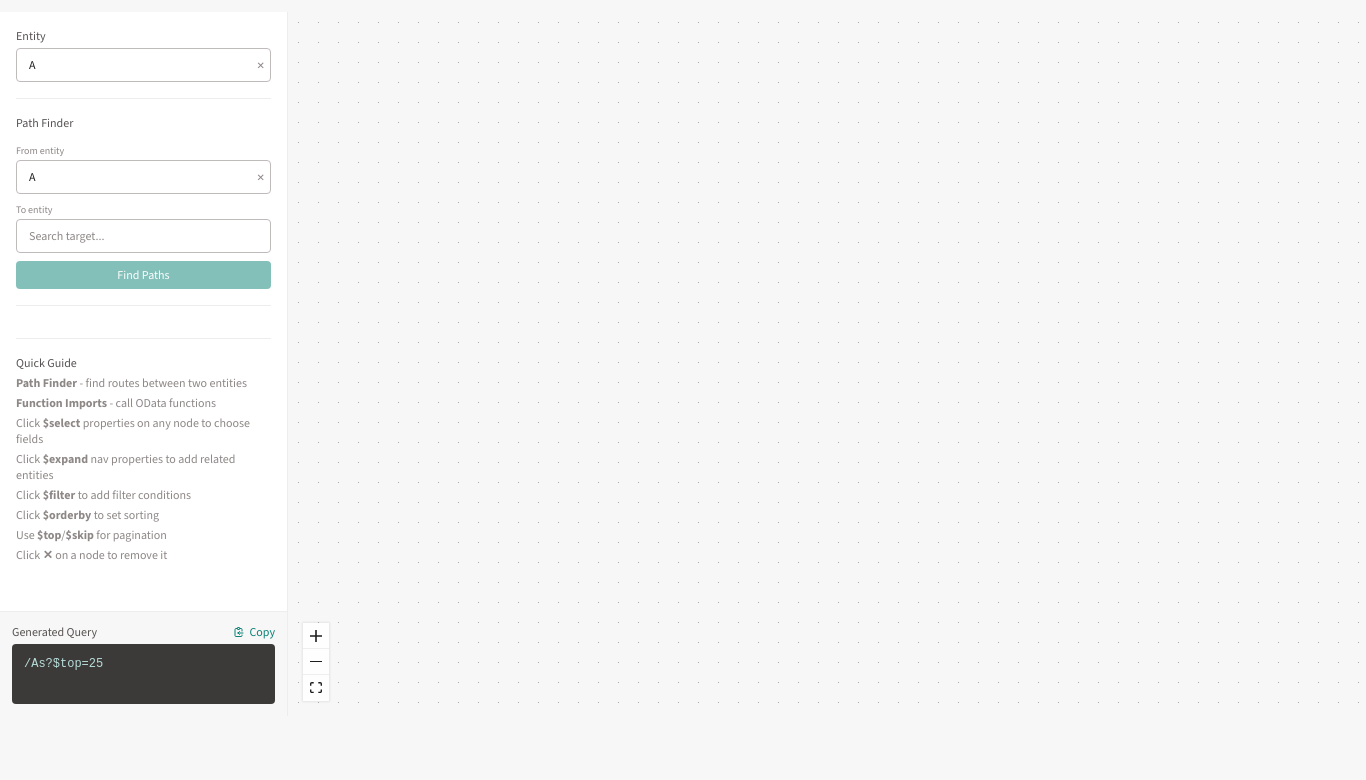
Scenario: QueryBuilder empty state › blames the refused function segment, not the exposed source set
This screenshot has width=1366, height=780.
# Entity selector, source and target: the target is the third combobox.
Focus the dropdown with placeholder "Search target..." at (144, 236), box [16,219,271,253]
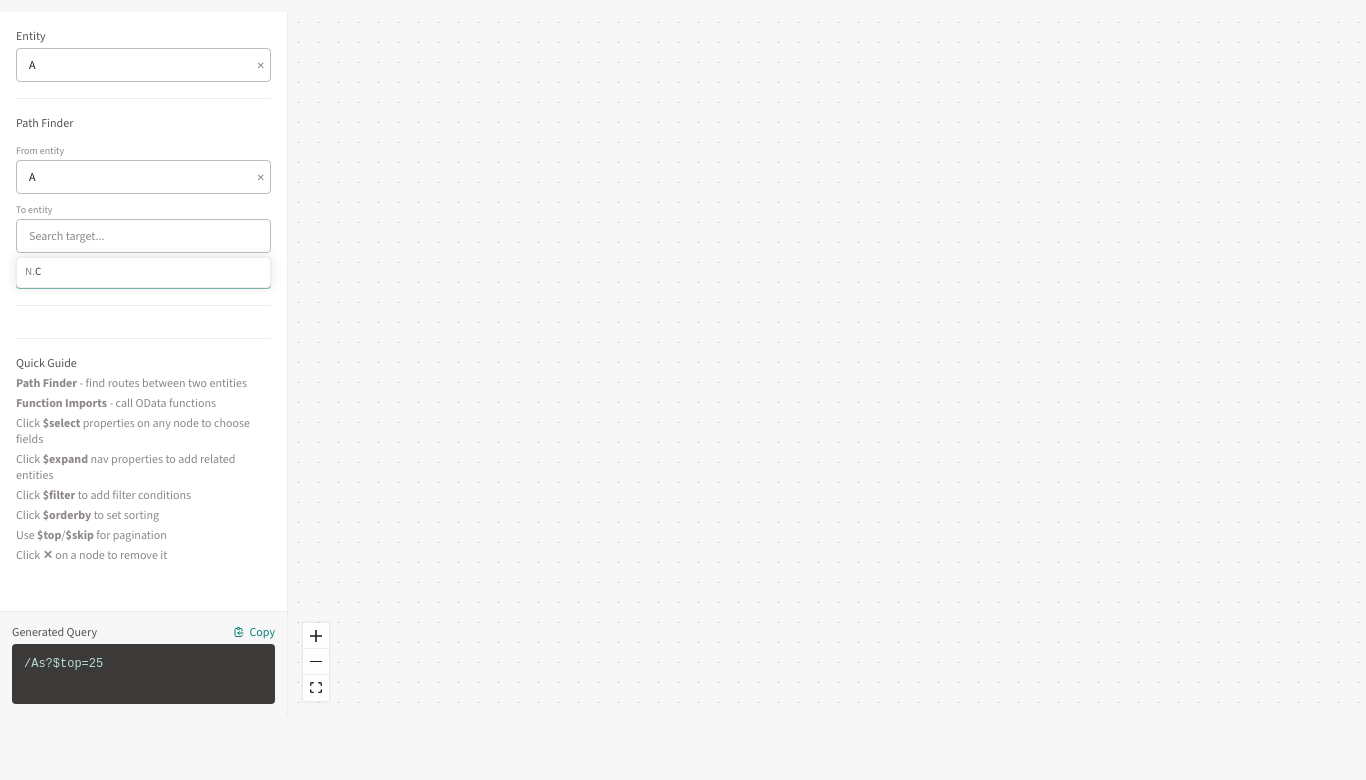
Press the mouse on the option "N.C" at (144, 272), box [17,258,270,286]
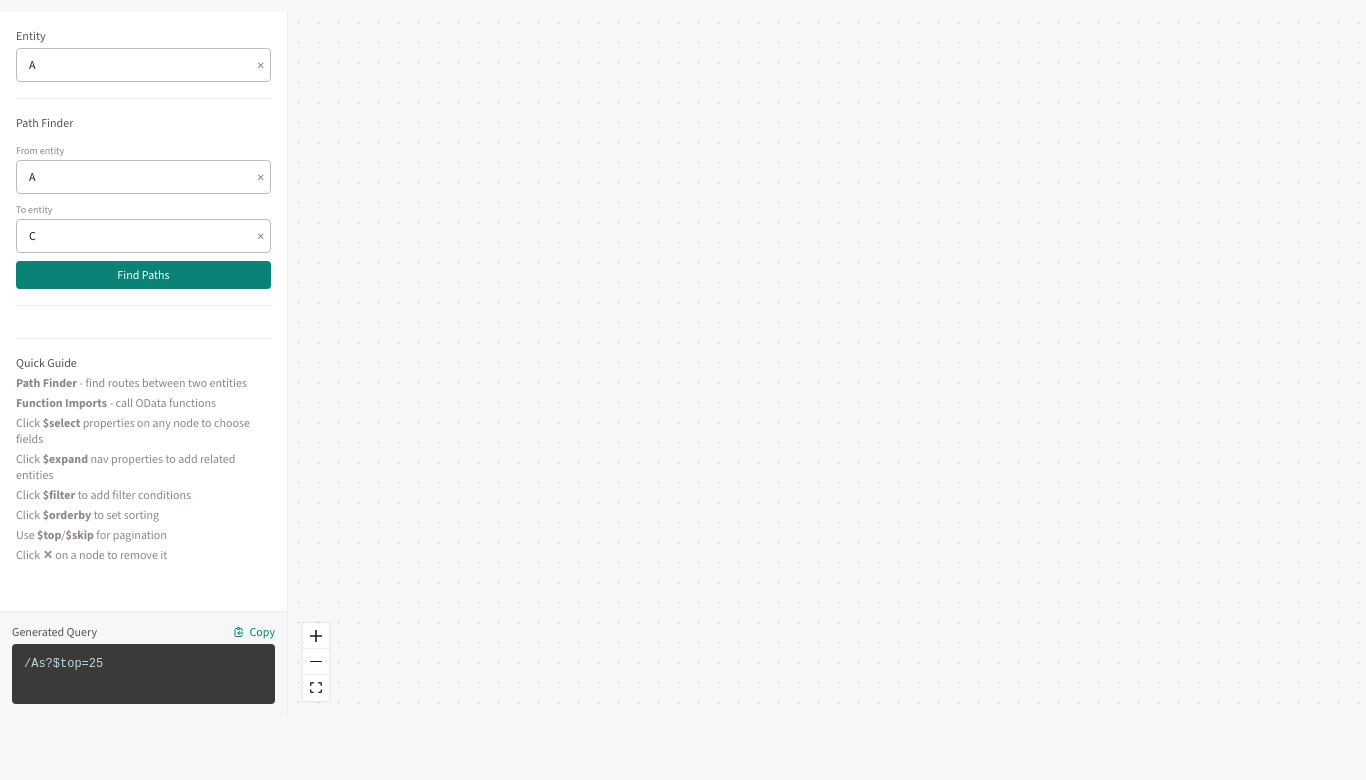
Click the button "Find Paths" at (144, 275), box [16,261,271,289]
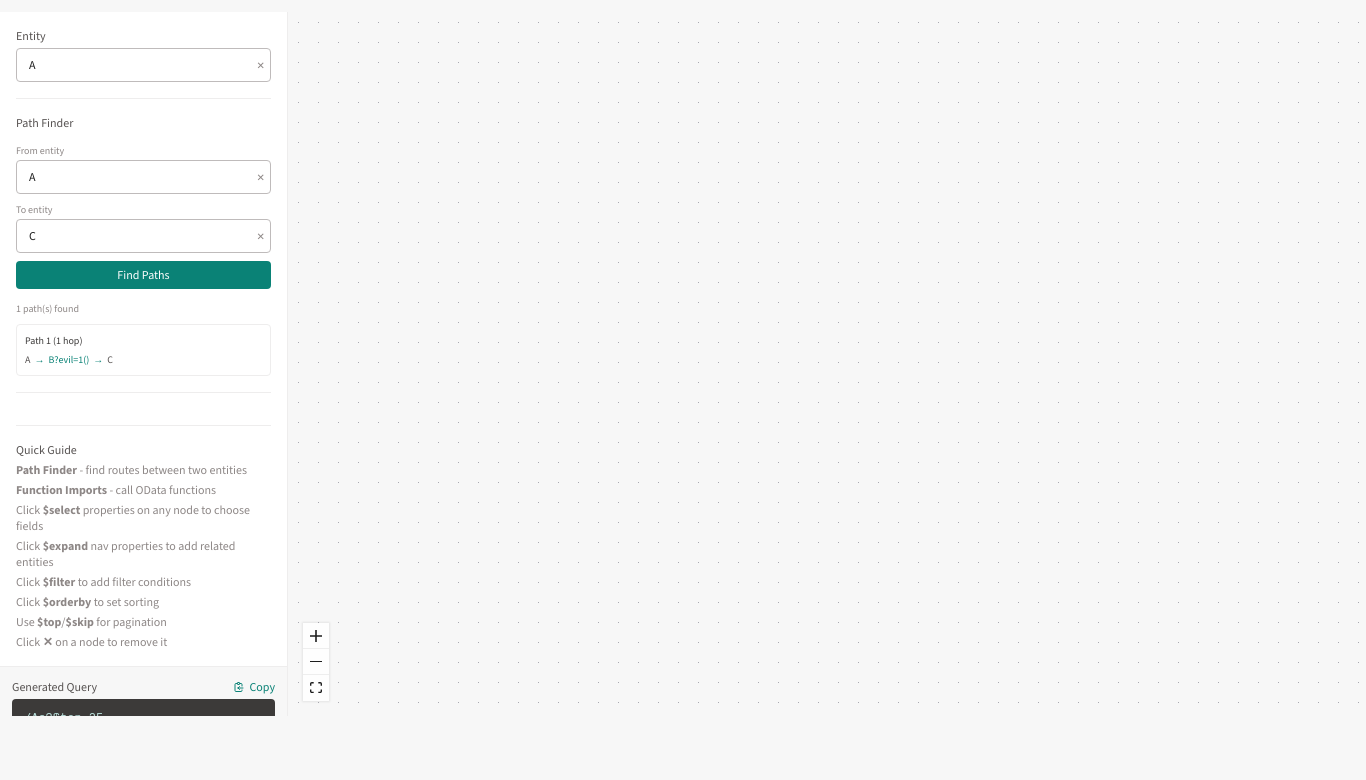
Click the text "Path 1 (1 hop)" at (54, 340), box [25,334,82,347]
(page scrolled)
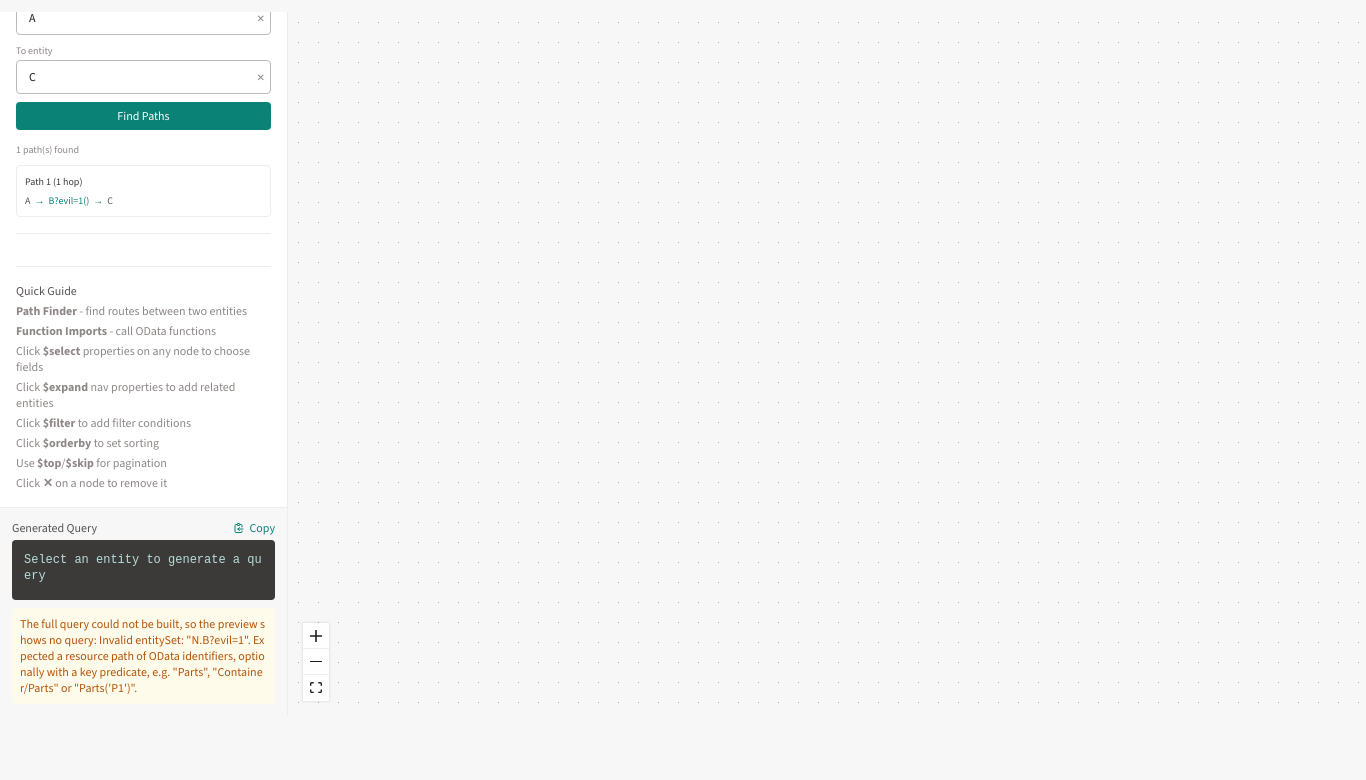
Check: the list item "Invalid entitySet" is shown, box [20,616,265,696]
